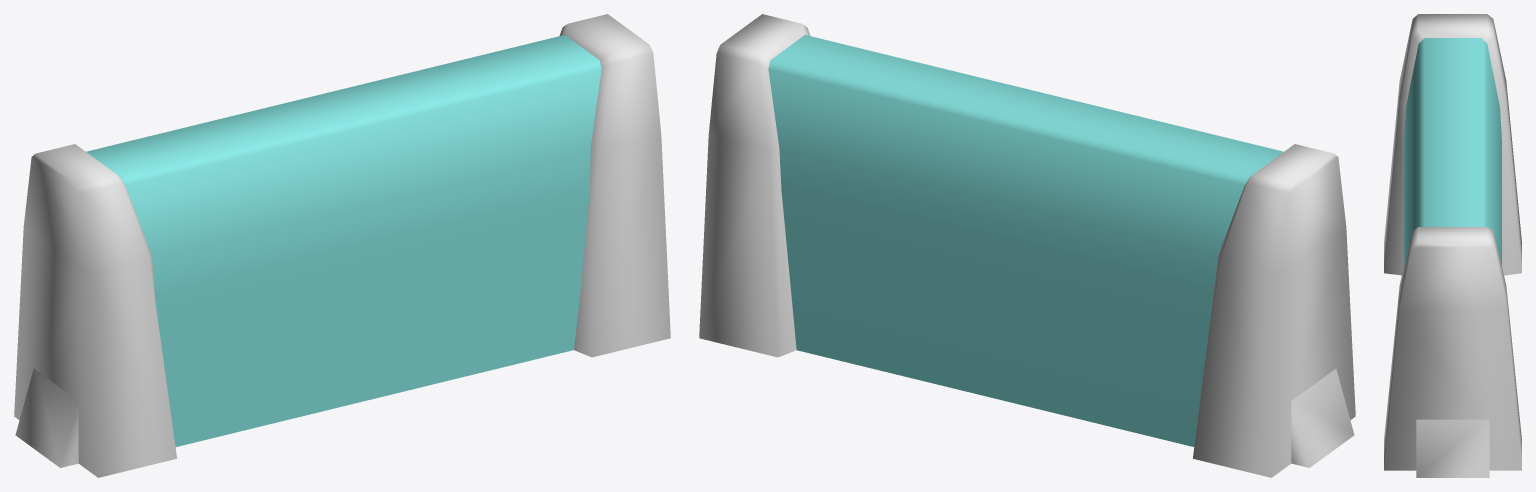
The model's file is Vault.fbx.
The picture shows the model from 3 angles, left to right: view 1: azimuth 30°, elevation 25°; view 2: azimuth 150°, elevation 25°; view 3: azimuth 270°, elevation 25°; orthographic projection. The views are drawn at different scales.
Parts seen in each view (by area): view 1: Vault; view 2: Vault; view 3: Vault.
Part boxes in pixels (bbox=[...]): Vault: bbox=[14, 14, 670, 477]; Vault: bbox=[699, 14, 1355, 477]; Vault: bbox=[1384, 14, 1521, 477].
Size of the model in its own units: 2.35 by 1.02 by 0.5621.
